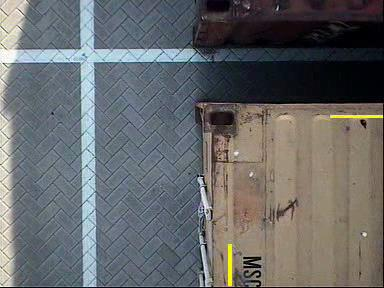groundmarker_2: (100, 56, 183, 123)
